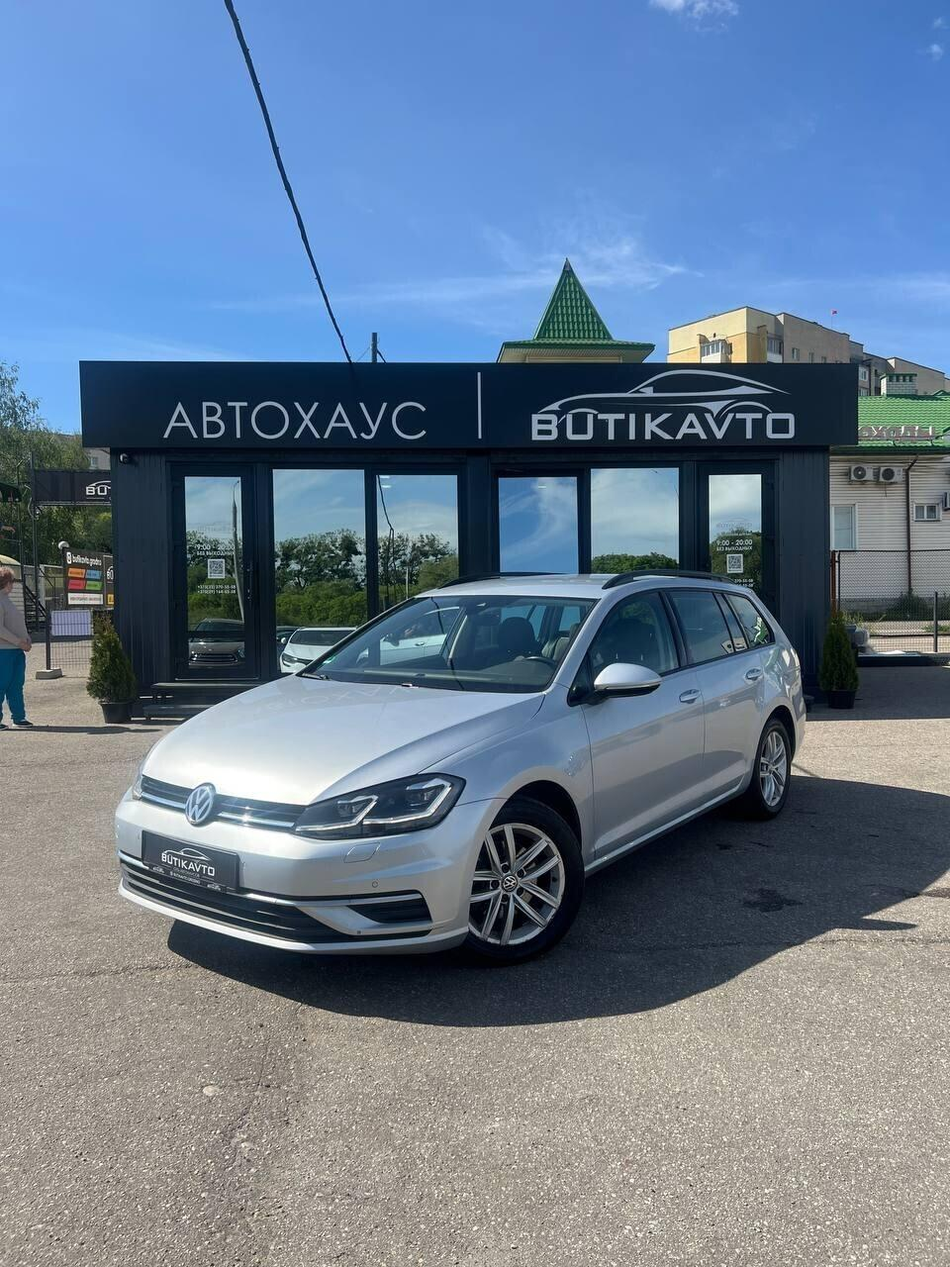Golf_2017-2021: (114, 562, 813, 968)
